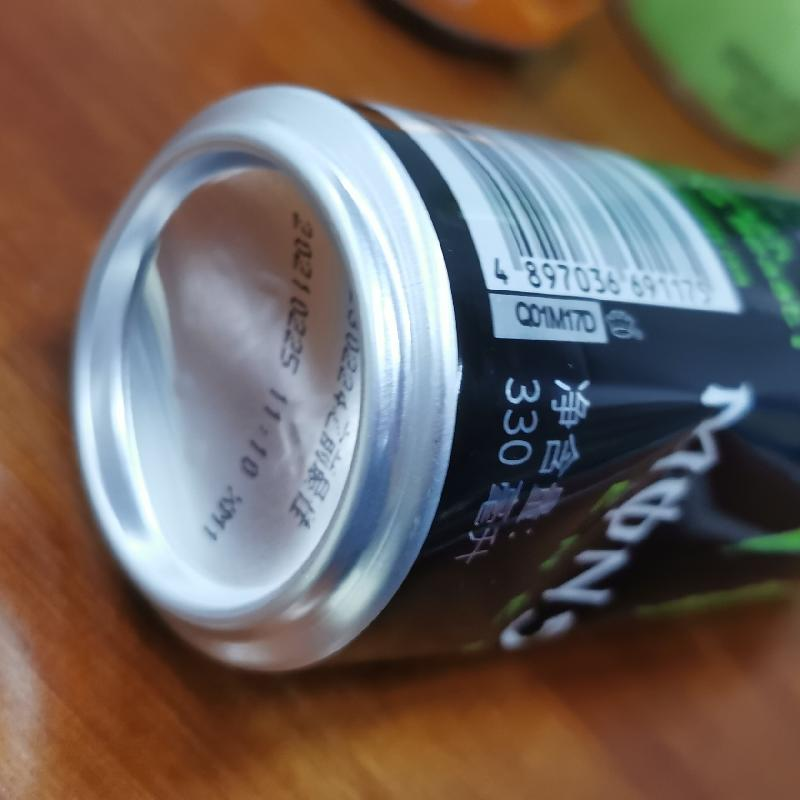cans: (51, 83, 799, 680)
